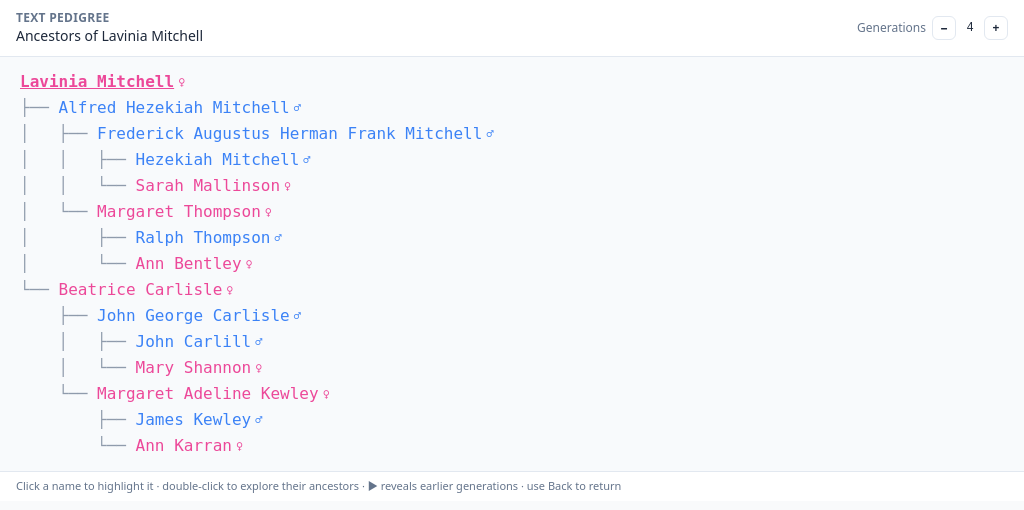
Test: TextPedigreeView › shows a Back button after double-clicking to re-root, which returns to the previous root
Expected: the text "← Back" is not shown
Double-click the button "Alfred Hezekiah Mitchell" at (174, 108), box [58,96,290,120]
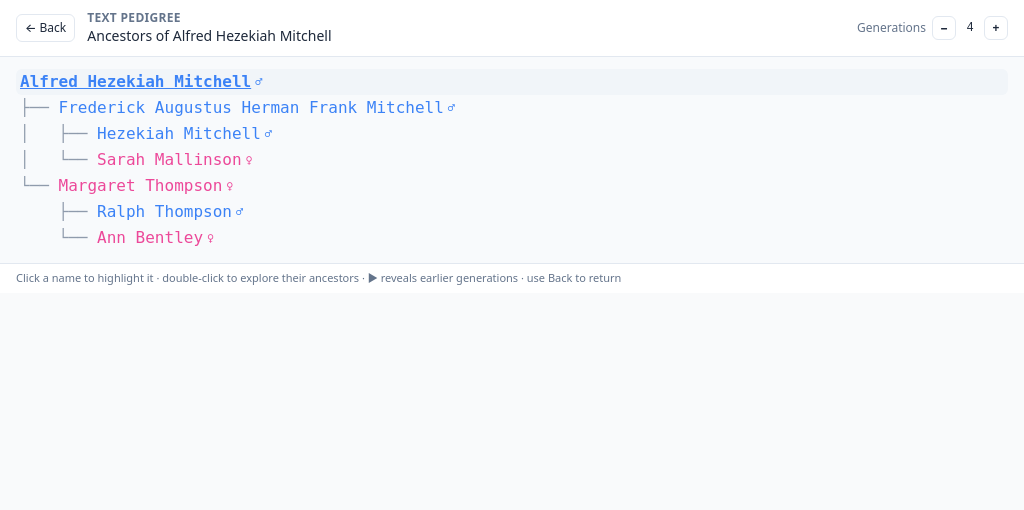
Expected: the button "← Back" is shown
Click the button "← Back" at (46, 28), box [16,14,75,42]
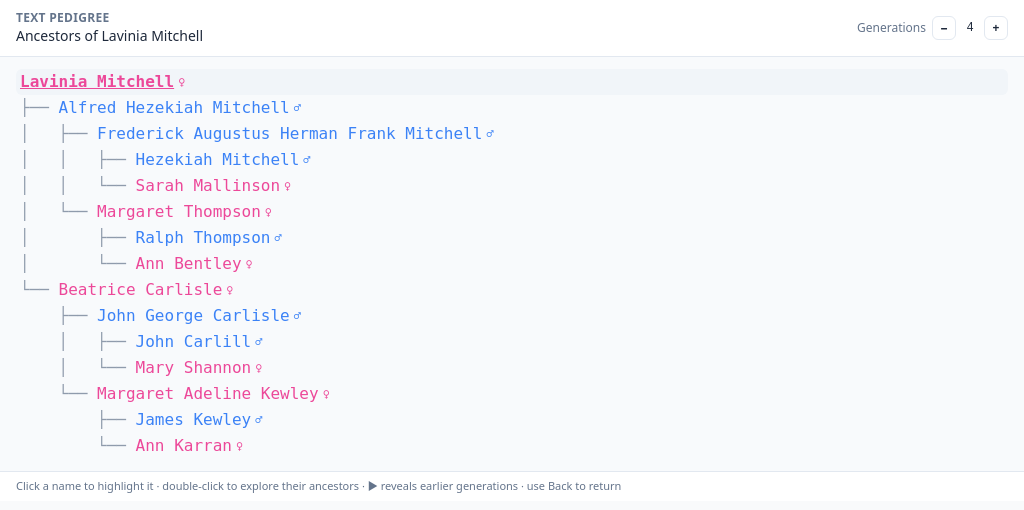
Expected: the button "← Back" is gone
